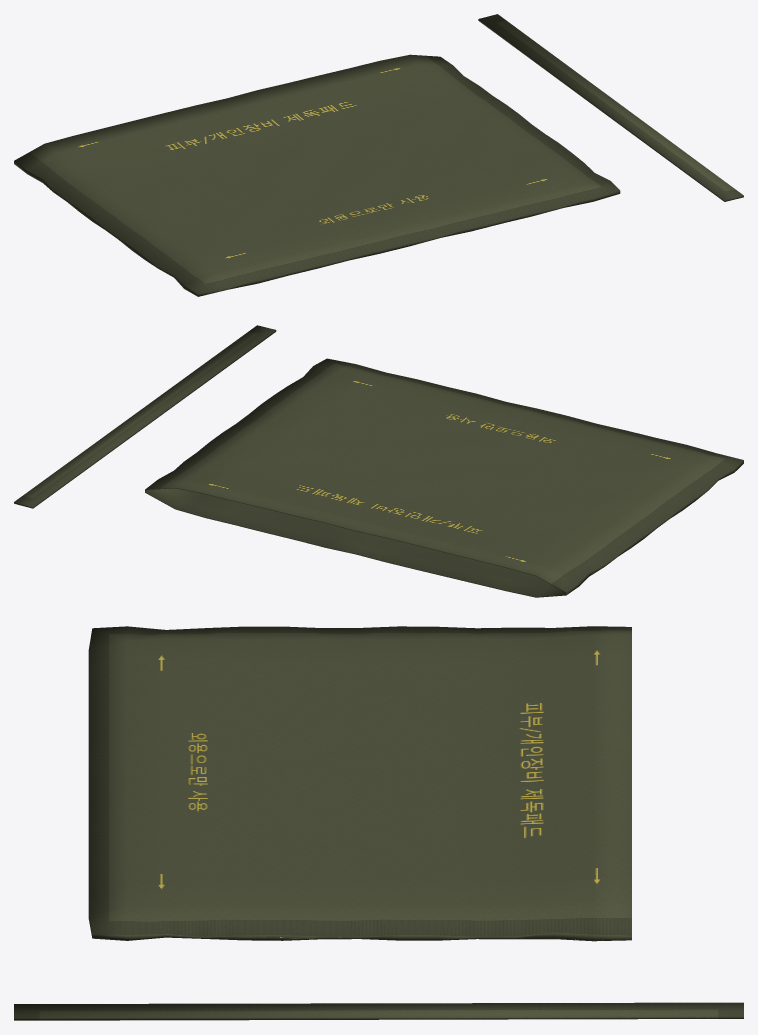
Rendered from KD1_Packet_Open.fbx.
3 views of the same model, one above another, from view 1: azimuth 30°, elevation 25°; view 2: azimuth 150°, elevation 25°; view 3: azimuth 270°, elevation 25° (orthographic). The views are drawn at different scales.
Visible parts, largest first — view 1: Part_Packet_Open, Part_RemovedSeal_Packet; view 2: Part_Packet_Open, Part_RemovedSeal_Packet; view 3: Part_Packet_Open, Part_RemovedSeal_Packet.
Boxes of the visible parts, x1,y1,x2,y2 form: Part_Packet_Open: (14,54,620,296); Part_RemovedSeal_Packet: (478,14,743,201); Part_Packet_Open: (145,358,743,597); Part_RemovedSeal_Packet: (14,325,276,508); Part_Packet_Open: (88,626,631,941); Part_RemovedSeal_Packet: (14,1002,743,1020).
Size of the model in its own units: 0.2152 by 0.0101 by 0.176.
1 material, 1 textured.
